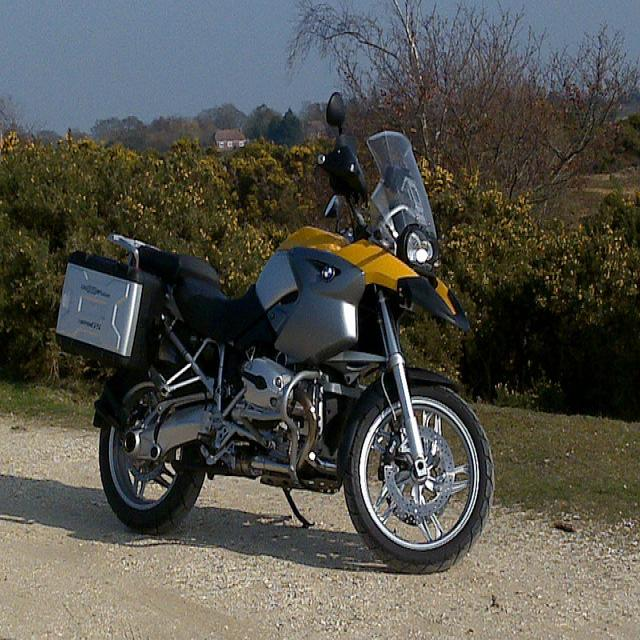motor: (55, 90, 497, 570)
